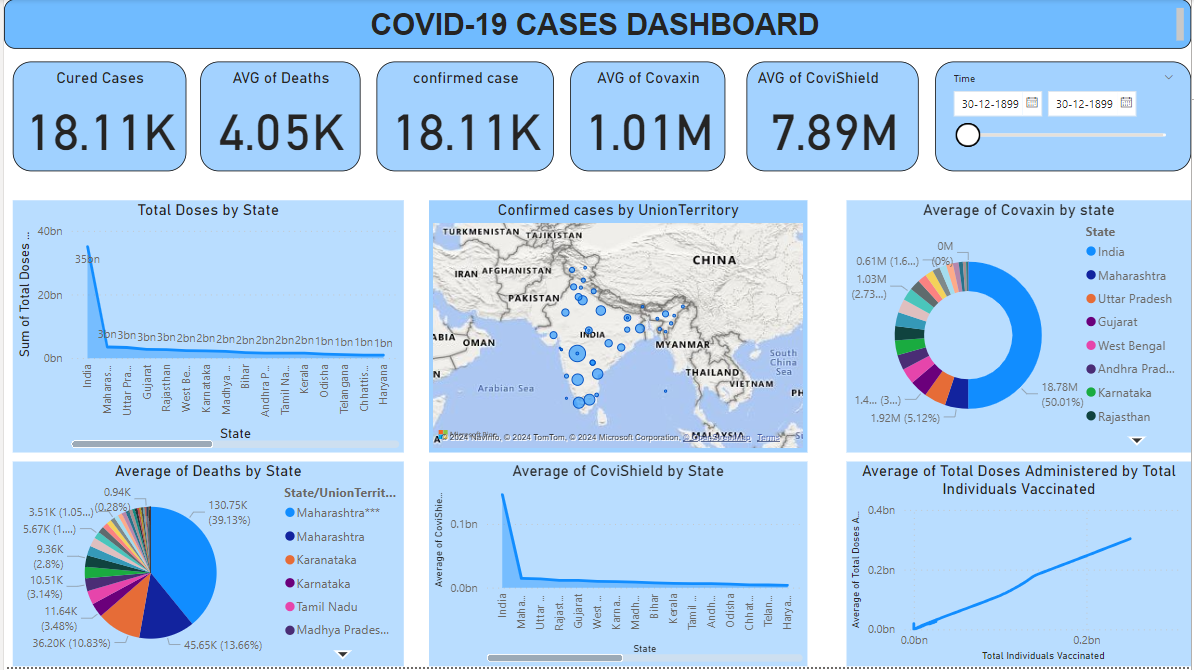

The page's visual inventory and layout, read from the dashboard file:
{"tool":"powerbi","page":{"name":"Page 1","canvas":[1280,720],"ordinal":0},"visuals":[{"type":"textbox","box":[0,0,1280.3,53.5],"z":0},{"type":"card","title":"Cured Cases","fields":{"Values":["CountNonNull(covid_19_india.Cured)"]},"box":[9.4,67.4,187.3,118.6],"z":1000},{"type":"card","title":"AVG of Deaths","fields":{"Values":["Avg(covid_19_india.Deaths)"]},"box":[211.6,67.4,172.5,118.6],"z":2000},{"type":"card","title":"confirmed case","fields":{"Values":["CountNonNull(covid_19_india.Confirmed)"]},"box":[401.6,67.4,191.4,118.6],"z":3000},{"type":"card","title":"AVG of  Covaxin","fields":{"Values":["Avg(covid_vaccine_statewise. Covaxin (Doses Administered))"]},"box":[610.5,67.4,167.1,118.6],"z":4000},{"type":"card","title":"AVG of CoviShield","fields":{"Values":["Avg(covid_vaccine_statewise.CoviShield (Doses Administered))"]},"box":[800.5,67.4,186,118.6],"z":5000},{"type":"areaChart","title":"Total Doses by State","fields":{"Category":["covid_vaccine_statewise.State"],"Y":["Sum(covid_vaccine_statewise.Total Doses Administered)"]},"box":[9.4,217,421.8,272.2],"z":6000},{"type":"map","title":"Confirmed cases by UnionTerritory","fields":{"Category":["covid_19_india.State/UnionTerritory"],"Size":["Sum(covid_19_india.Confirmed)"]},"box":[458.2,217,408.3,272.2],"z":7000},{"type":"donutChart","title":"Average of  Covaxin by state  ","fields":{"Category":["covid_vaccine_statewise.State"],"Y":["Avg(covid_vaccine_statewise. Covaxin (Doses Administered))"]},"box":[908.3,217,372,272.2],"z":8000},{"type":"pieChart","title":"Average of Deaths by State","fields":{"Category":["covid_19_india.State/UnionTerritory"],"Y":["Avg(covid_19_india.Deaths)"]},"box":[9.4,498.6,421.8,221],"z":9000},{"type":"areaChart","title":"Average of CoviShield  by State","fields":{"Category":["covid_vaccine_statewise.State"],"Y":["Avg(covid_vaccine_statewise.CoviShield (Doses Administered))"]},"box":[458,499,408,221],"z":10000},{"type":"lineChart","fields":{"Y":["Avg(covid_vaccine_statewise.Total Doses Administered)"],"Category":["covid_vaccine_statewise.Total Individuals Vaccinated"]},"box":[908,499,372,221],"z":11000},{"type":"slicer","fields":{"Values":["covid_19_india.Time"]},"box":[1004,67.4,276.3,118.6],"z":11001}]}

Visuals, with their boxes in screenshot pixels (x1, y1, x2, y2), scaled from the page's 1280x720 canvas onto the 1194x670 screenshot:
textbox: 0:0:1193:50
"Cured Cases" card: 9:63:183:173
"AVG of Deaths" card: 197:63:358:173
"confirmed case" card: 375:63:553:173
"AVG of  Covaxin" card: 569:63:725:173
"AVG of CoviShield" card: 747:63:920:173
"Total Doses by State" areaChart: 9:202:402:455
"Confirmed cases by UnionTerritory" map: 427:202:808:455
"Average of  Covaxin by state  " donutChart: 847:202:1193:455
"Average of Deaths by State" pieChart: 9:464:402:669
"Average of CoviShield  by State" areaChart: 427:464:808:669
lineChart - Avg(covid_vaccine_statewise.Total Doses Administered) x covid_vaccine_statewise.Total Individuals Vaccinated: 847:464:1193:669
slicer - covid_19_india.Time: 937:63:1193:173
